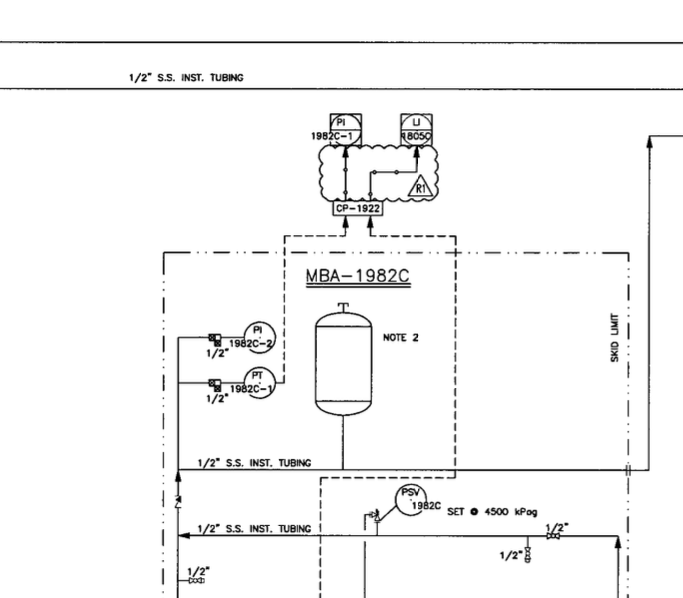Instrument-offset: (227, 317, 279, 355), (229, 363, 278, 403)
Instrument-square: (396, 109, 436, 148)
Instrument-square-offset: (308, 109, 366, 149)
